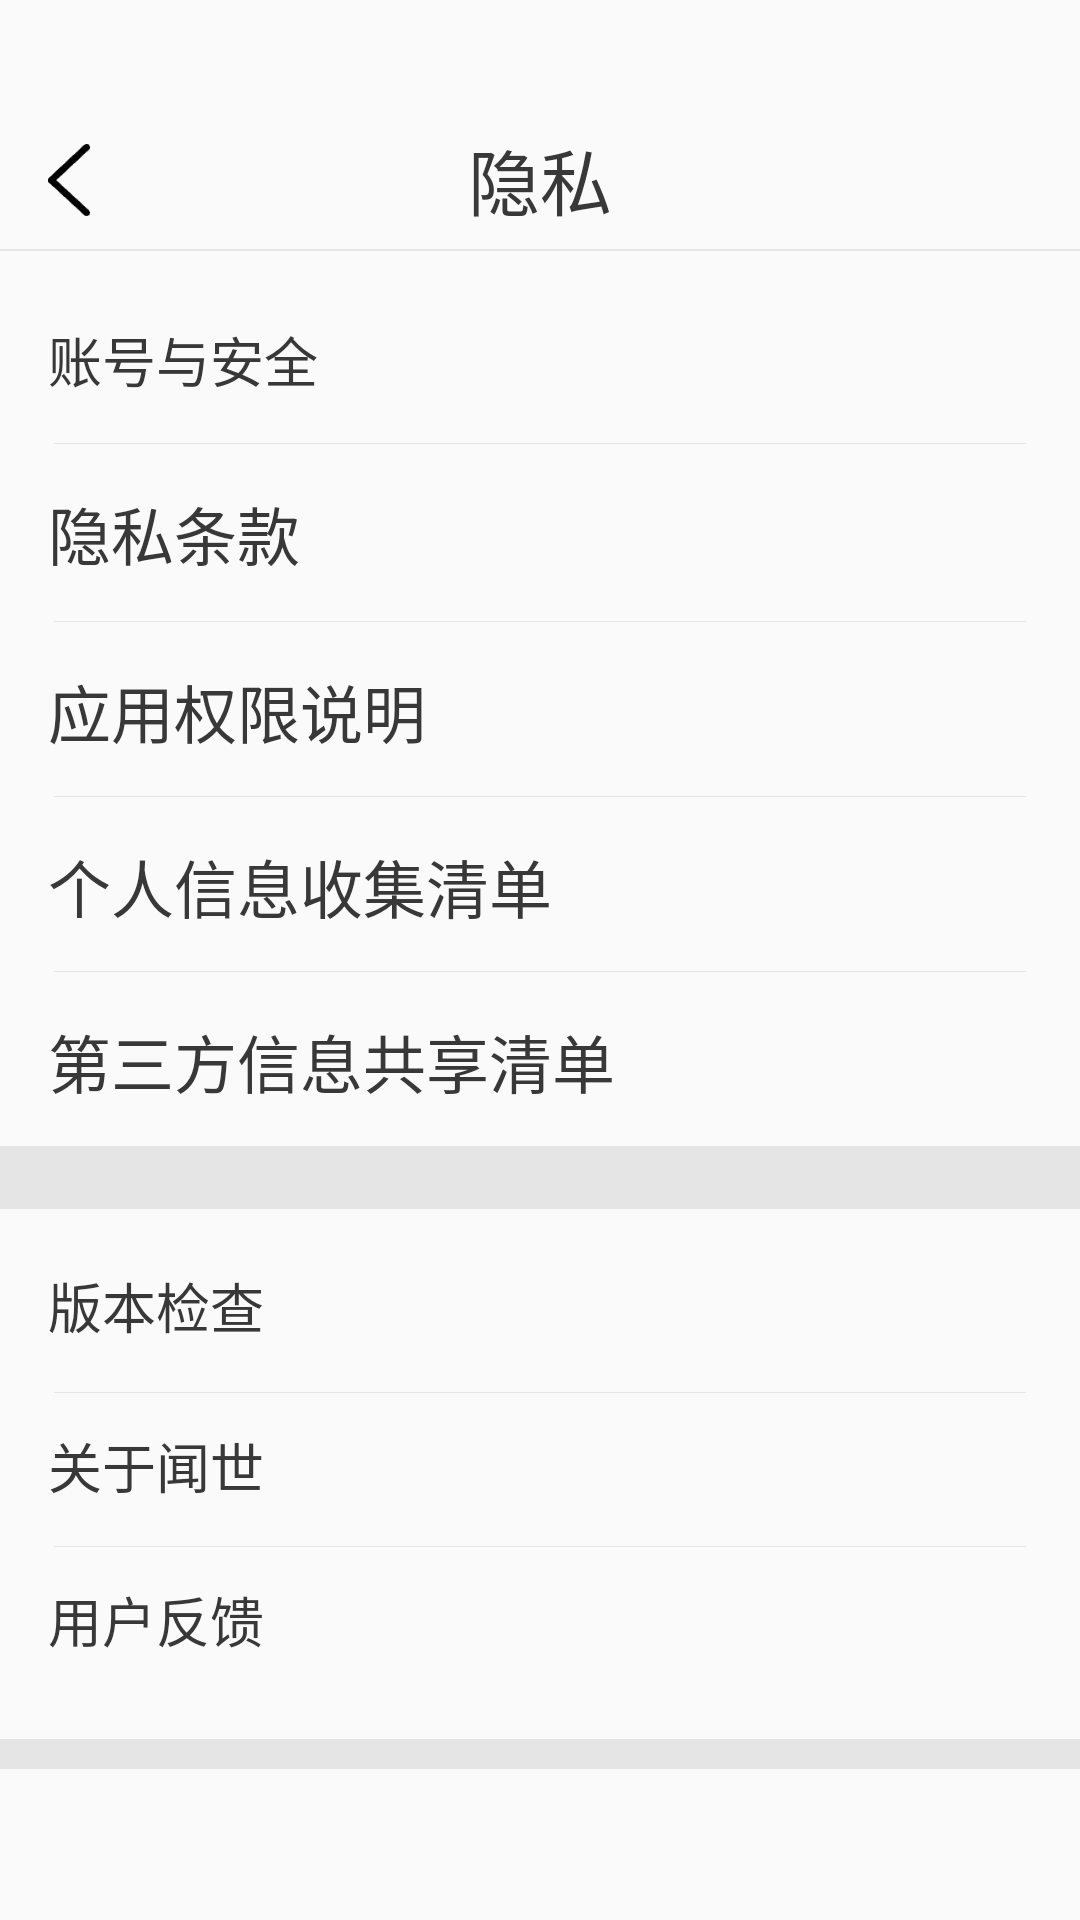

Named icons in this screenshot (1080px×1920px) and their centers, (x=x, y=y):
back: (x=69, y=180)
